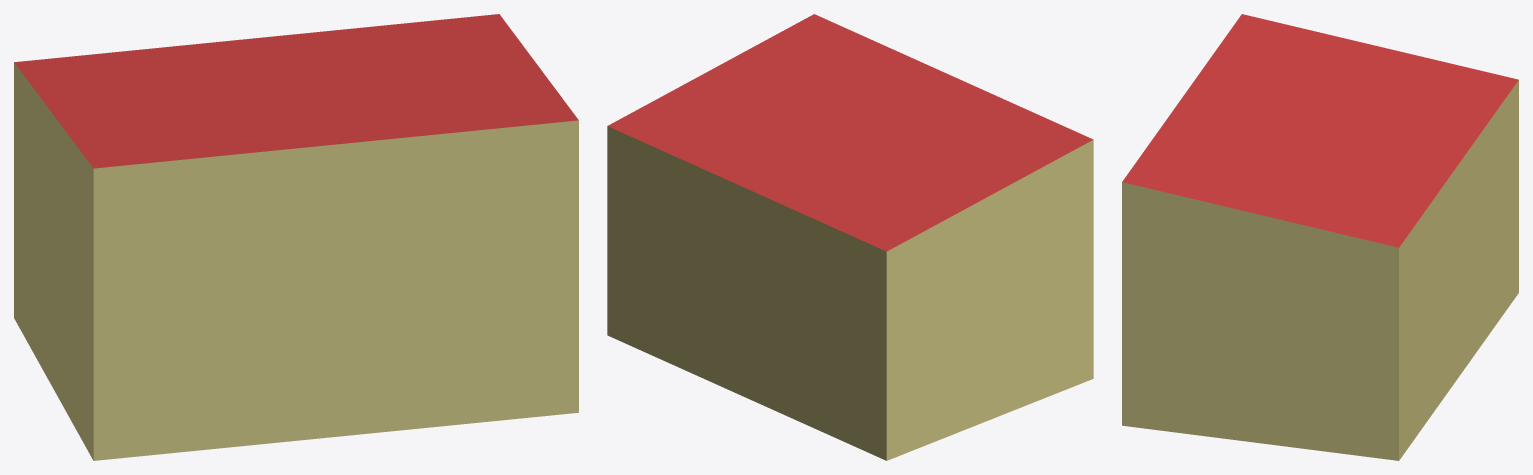
The picture shows the model from 3 angles, left to right: view 1: azimuth 30°, elevation 25°; view 2: azimuth 150°, elevation 25°; view 3: azimuth 270°, elevation 25°; orthographic projection. The views are drawn at different scales.
Size of the model in its own units: 19.28 by 15.9 by 10.77.
